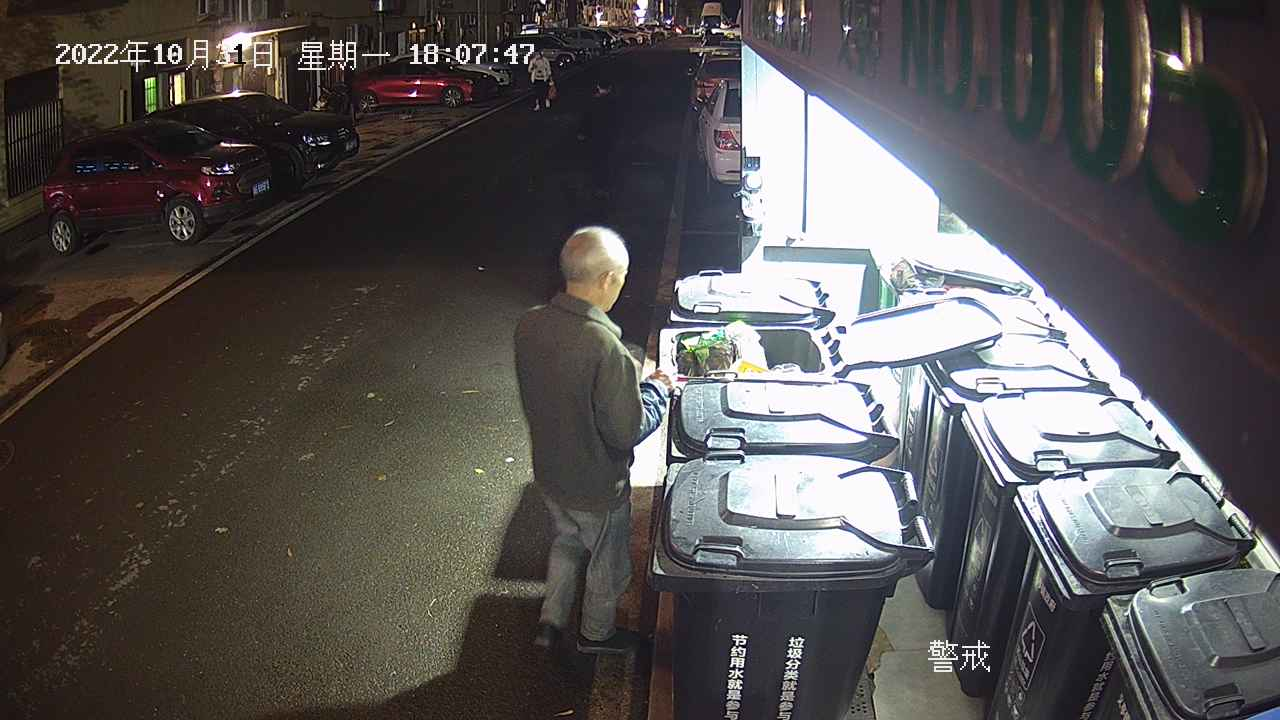person: (512, 223, 680, 658)
